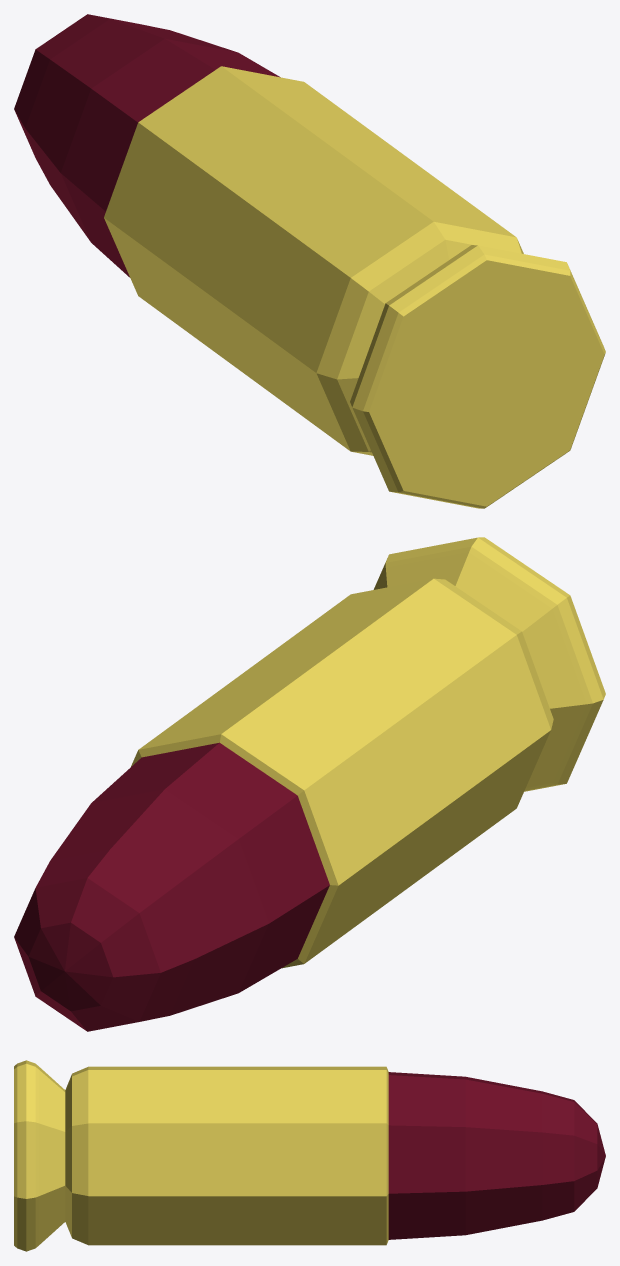
File: Bullet.fbx
The picture shows the model from 3 angles, top to bottom: view 1: azimuth 30°, elevation 25°; view 2: azimuth 150°, elevation 25°; view 3: azimuth 270°, elevation 25°; orthographic projection. The views are drawn at different scales.
Visible parts, largest first — view 1: Bullet; view 2: Bullet; view 3: Bullet.
Part boxes in pixels (x1,y1,x2,y2): Bullet: (14,14,605,508); Bullet: (14,537,605,1031); Bullet: (14,1060,605,1251).
Size of the model in its own units: 169 by 58.03 by 58.03.
